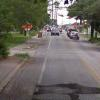Tree: (69, 2, 100, 39)
